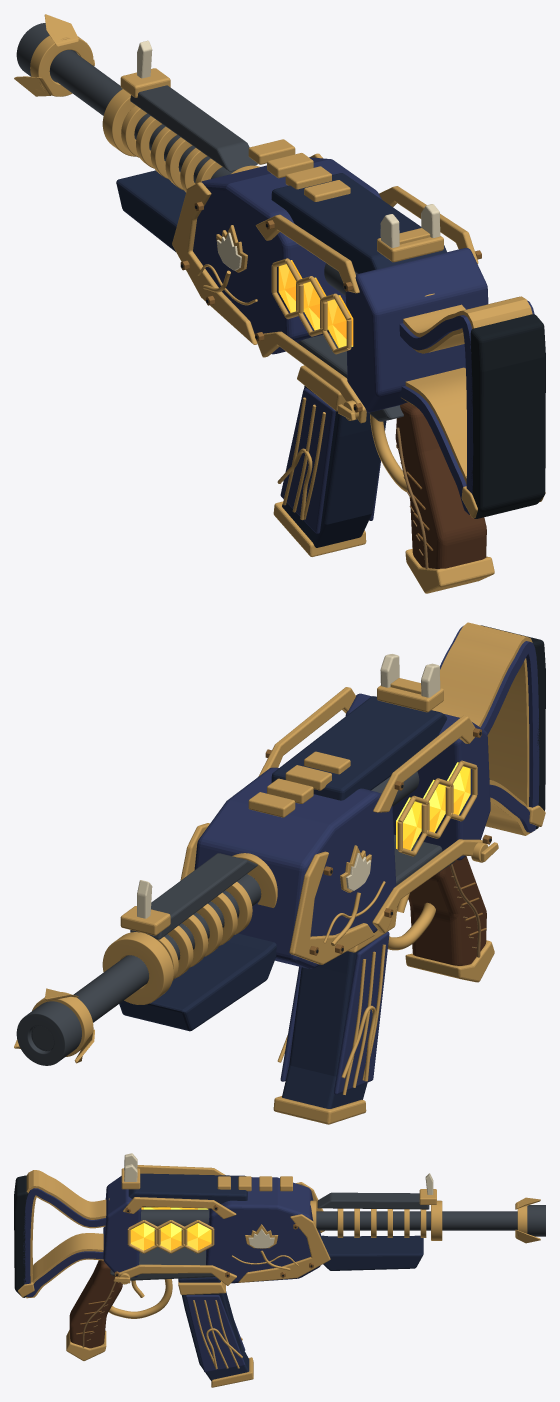
Rendered from surya-carbine.glb.
3 views of the same model, one above another, from view 1: azimuth 30°, elevation 25°; view 2: azimuth 150°, elevation 25°; view 3: azimuth 270°, elevation 25° (orthographic). The views are drawn at different scales.
Parts seen in each view (by area): view 1: FixedGeometry, MagazineGeometry; view 2: FixedGeometry, MagazineGeometry; view 3: FixedGeometry, MagazineGeometry.
Boxes of the visible parts, <box> form: FixedGeometry: <box>14,14,545,593</box>; MagazineGeometry: <box>273,365,386,556</box>; FixedGeometry: <box>14,622,545,1065</box>; MagazineGeometry: <box>273,907,397,1124</box>; FixedGeometry: <box>14,1153,545,1360</box>; MagazineGeometry: <box>178,1277,253,1387</box>.
Bounding box in the file's own units: 0.138 × 0.3522 × 0.769.
